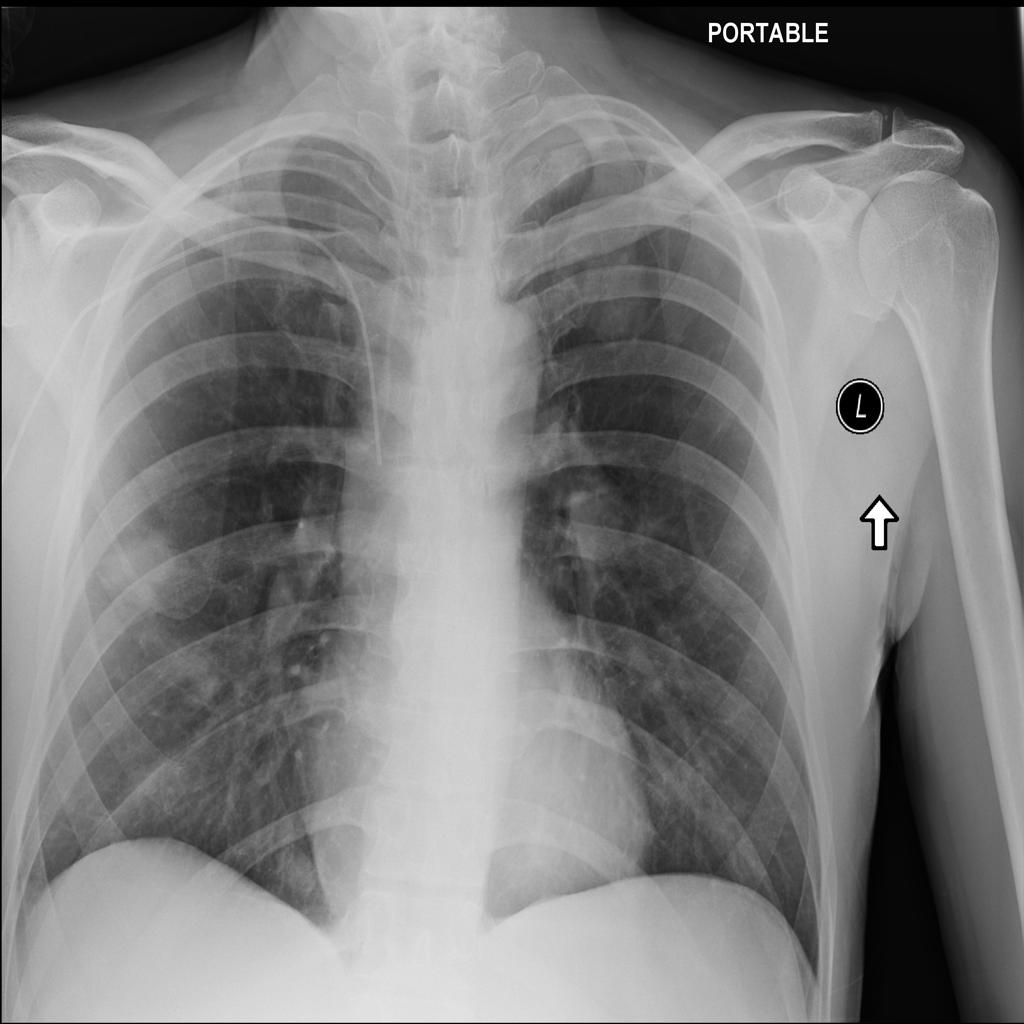nodule: (83, 510, 201, 619), (503, 812, 579, 891), (261, 835, 334, 908)
